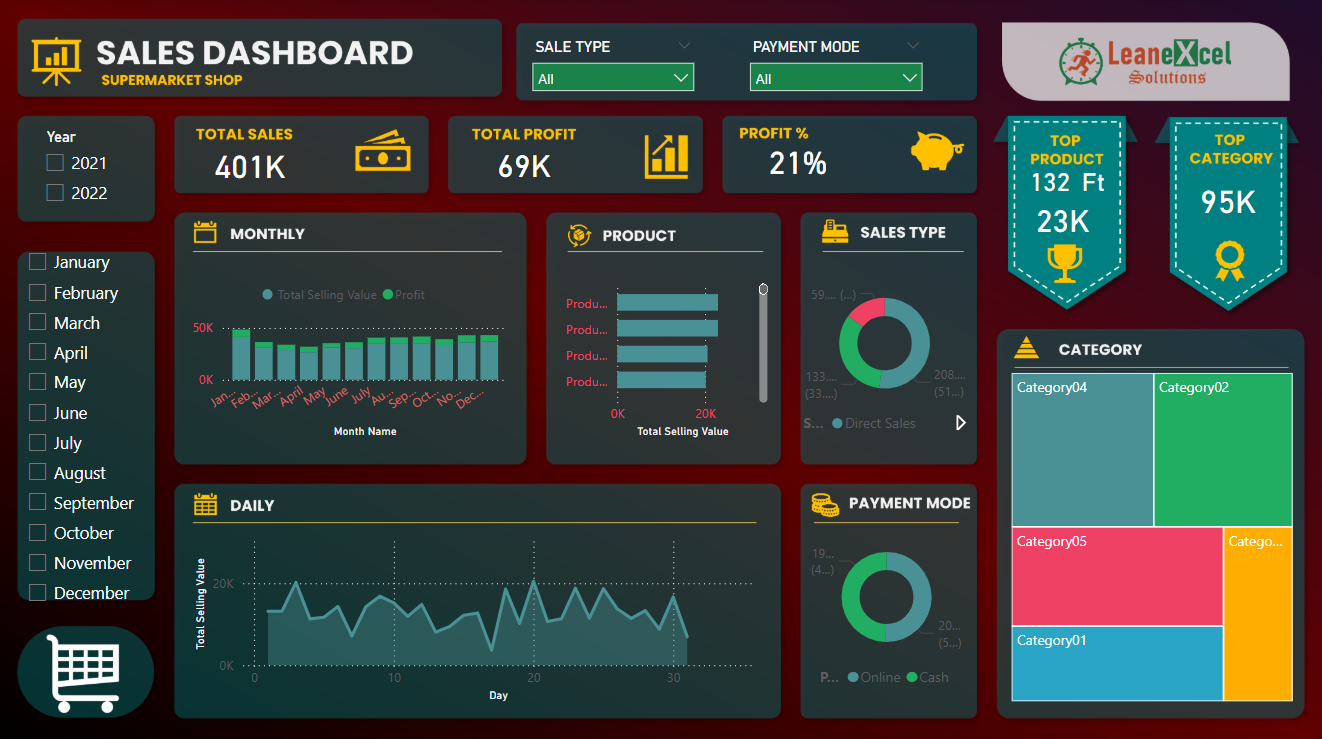

Layout of this report page (visuals, bound fields, positions):
{"tool":"powerbi","page":{"name":"Page 1","canvas":[1280,720],"ordinal":0},"visuals":[{"type":"slicer","fields":{"Values":["InputData.Year"]},"box":[33.8,120.6,96.5,92.9],"z":0},{"type":"slicer","fields":{"Values":["InputData.SALE TYPE"]},"box":[505.5,33.8,176.1,76],"z":1000},{"type":"slicer","title":"MONTH","fields":{"Values":["InputData.Month Name"]},"box":[16.9,235.3,131.5,358.3],"z":2000},{"type":"slicer","fields":{"Values":["InputData.PAYMENT MODE"]},"box":[715.4,33.8,187,65.1],"z":3000},{"type":"card","fields":{"Values":["Sum(InputData.Total Selling Value)"]},"box":[184.6,132.7,117,56.7],"z":4000},{"type":"card","fields":{"Values":["InputData.Profit"]},"box":[460.9,129.1,94.1,62.7],"z":5000},{"type":"card","fields":{"Values":["InputData.Profit %"]},"box":[715.4,121.9,113.4,71.2],"z":6000},{"type":"card","fields":{"Values":["Sum(InputData.Total Selling Value)"]},"box":[1130.4,160.5,113.4,68.8],"z":7000},{"type":"card","fields":{"Values":["Sum(InputData.Total Selling Value)"]},"box":[973.6,187,108.6,53.1],"z":8000},{"type":"card","fields":{"Values":["Min(InputData.MasterData.UOM)"]},"box":[1032.7,158,49.5,38.6],"z":9000},{"type":"card","fields":{"Values":["Sum(InputData.QUANTITY)"]},"box":[984.5,153.2,61.5,47.1],"z":10000},{"type":"columnChart","fields":{"Category":["InputData.Month Name"],"Y":["Sum(InputData.Total Selling Value)","InputData.Profit"]},"box":[173.7,266.6,323.3,162.9],"z":11000},{"type":"clusteredBarChart","fields":{"Y":["Sum(InputData.Total Selling Value)"],"Category":["InputData.MasterData.PRODUCT"]},"box":[530.8,263,217.2,166.5],"z":12000},{"type":"areaChart","fields":{"Y":["Sum(InputData.Total Selling Value)"],"Category":["InputData.Day"]},"box":[184.6,511.5,550.1,172.5],"z":13000},{"type":"donutChart","fields":{"Y":["Sum(InputData.Total Selling Value)"],"Category":["InputData.SALE TYPE"]},"box":[772.1,266.6,167.7,162.9],"z":14000},{"type":"donutChart","fields":{"Category":["InputData.PAYMENT MODE"],"Y":["Sum(InputData.Total Selling Value)"]},"box":[775.7,511.5,164.1,162.9],"z":15000},{"type":"treemap","fields":{"Values":["Sum(InputData.Total Selling Value)"],"Group":["InputData.MasterData.CATEGORY"]},"box":[973.6,357.1,281.1,326.9],"z":16000}]}

Visuals, with their boxes in screenshot pixels (x1, y1, x2, y2), scaled from the page's 1280x720 canvas onto the 1322x739 screenshot:
slicer - InputData.Year: crop(35, 124, 135, 219)
slicer - InputData.SALE TYPE: crop(522, 35, 704, 113)
"MONTH" slicer: crop(17, 242, 153, 609)
slicer - InputData.PAYMENT MODE: crop(739, 35, 932, 102)
card - Sum(InputData.Total Selling Value): crop(191, 136, 311, 194)
card - InputData.Profit: crop(476, 133, 573, 197)
card - InputData.Profit %: crop(739, 125, 856, 198)
card - Sum(InputData.Total Selling Value): crop(1167, 165, 1285, 235)
card - Sum(InputData.Total Selling Value): crop(1006, 192, 1118, 246)
card - Min(InputData.MasterData.UOM): crop(1067, 162, 1118, 202)
card - Sum(InputData.QUANTITY): crop(1017, 157, 1080, 206)
columnChart - InputData.Month Name x Sum(InputData.Total Selling Value): crop(179, 274, 513, 441)
clusteredBarChart - Sum(InputData.Total Selling Value) x InputData.MasterData.PRODUCT: crop(548, 270, 773, 441)
areaChart - Sum(InputData.Total Selling Value) x InputData.Day: crop(191, 525, 759, 702)
donutChart - Sum(InputData.Total Selling Value) x InputData.SALE TYPE: crop(797, 274, 971, 441)
donutChart - InputData.PAYMENT MODE x Sum(InputData.Total Selling Value): crop(801, 525, 971, 692)
treemap - Sum(InputData.Total Selling Value) x InputData.MasterData.CATEGORY: crop(1006, 367, 1296, 702)
